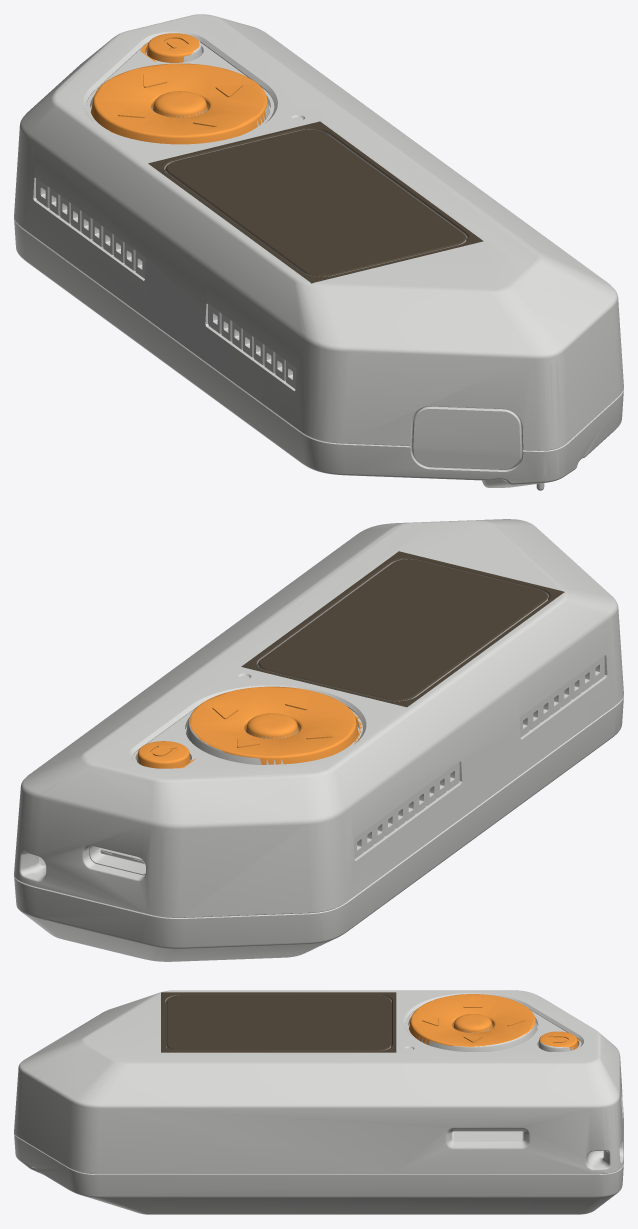
Rendered from flipper-zero.glb.
The picture shows the model from 3 angles, top to bottom: view 1: azimuth 30°, elevation 25°; view 2: azimuth 150°, elevation 25°; view 3: azimuth 270°, elevation 25°; orthographic projection. The views are drawn at different scales.
Visible parts, largest first — view 1: flipper-zero-body-3d; view 2: flipper-zero-body-3d; view 3: flipper-zero-body-3d.
Boxes of the visible parts, left/top/right/bottom form: flipper-zero-body-3d: left=14, top=14, right=623, bottom=490; flipper-zero-body-3d: left=14, top=519, right=623, bottom=961; flipper-zero-body-3d: left=14, top=990, right=623, bottom=1214.
Bounding box in the file's own units: 40.09 × 25.6 × 100.
